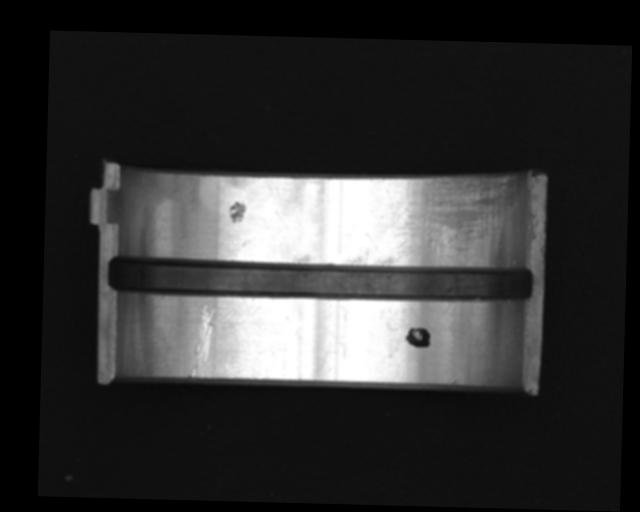blot: (403, 326, 432, 349)
bruise: (226, 199, 248, 225)
gap: (105, 253, 536, 306)
nick: (189, 304, 217, 381)
scratch: (377, 168, 522, 271)
